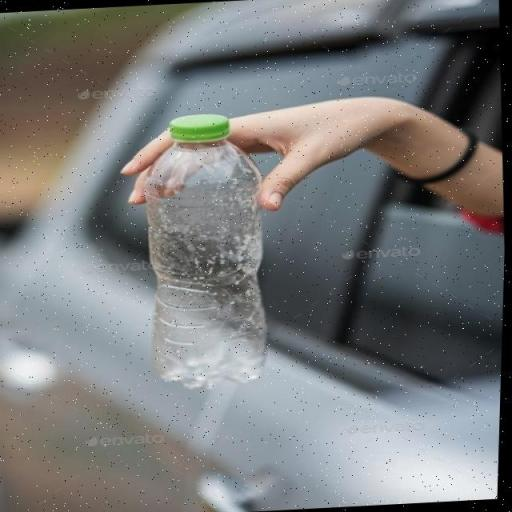plastic: (132, 110, 282, 395)
